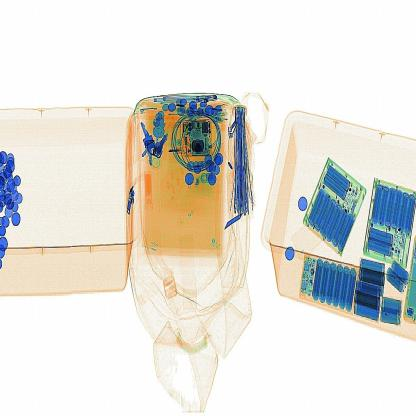pliers: (214, 209, 250, 238)
